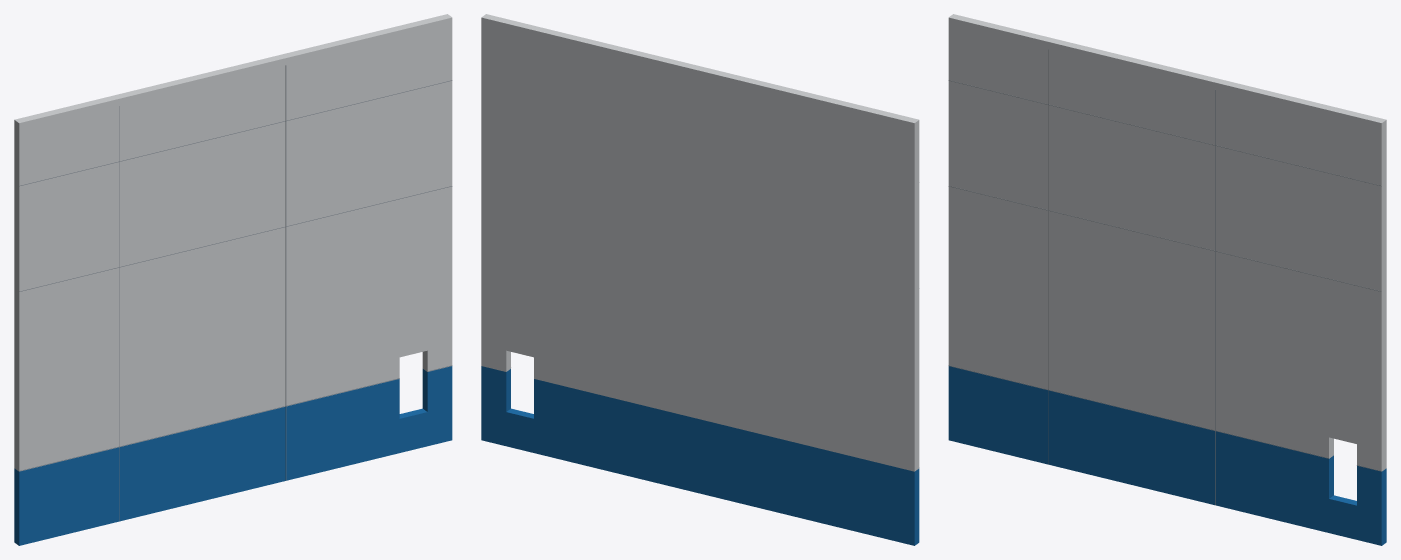
Rendered from SM_MPR_CAD_Facade_08_20261112.fbx.
3 renders of one model, left to right at view 1: azimuth 30°, elevation 25°; view 2: azimuth 150°, elevation 25°; view 3: azimuth 330°, elevation 25°, orthographic.
Visible parts, largest first — view 1: SM_MPR_CAD_Facade_08_20261112; view 2: SM_MPR_CAD_Facade_08_20261112; view 3: SM_MPR_CAD_Facade_08_20261112.
Part boxes in pixels (x1,y1,x2,y2): SM_MPR_CAD_Facade_08_20261112: (14, 14, 452, 545); SM_MPR_CAD_Facade_08_20261112: (481, 14, 919, 545); SM_MPR_CAD_Facade_08_20261112: (948, 14, 1386, 545).
Size of the model in its own units: 1588 by 31.44 by 1480.
